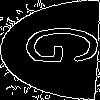G: (25, 25, 100, 66)
